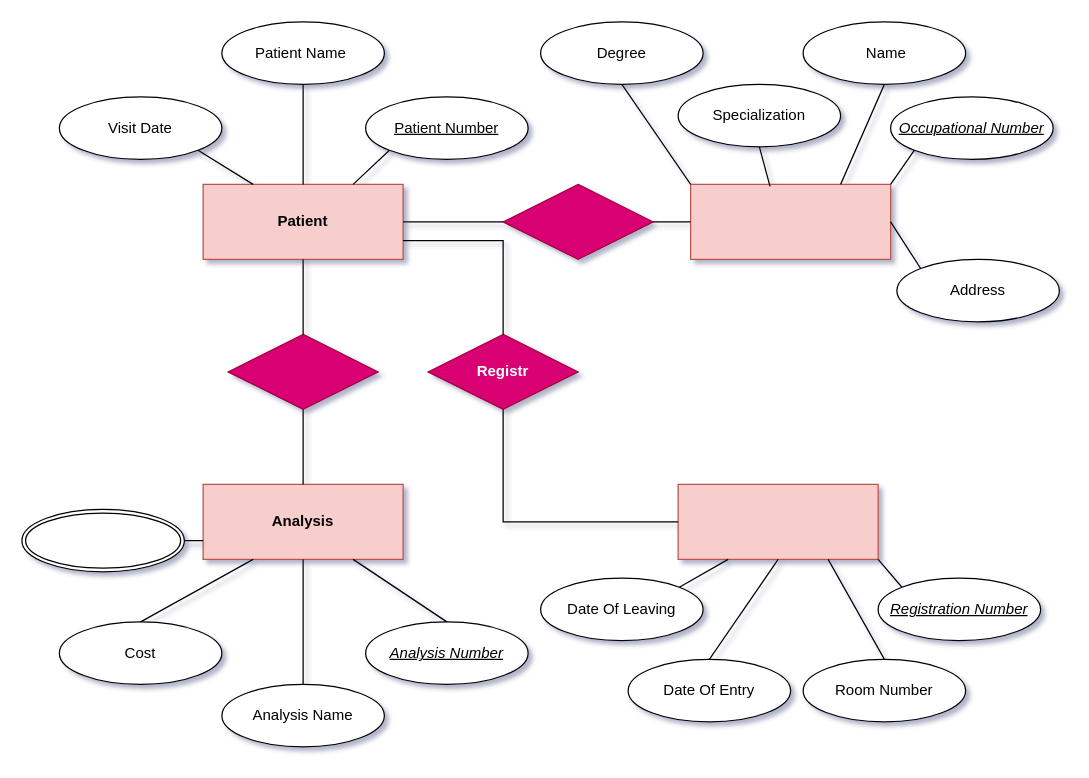
This 1089x778 diagram has some shape labels left out. Here are the shapes that lost their labels. From the top down, the centre of each, then its label:
At pixel 577 221: "Treat".
At pixel 790 221: "Doctor".
At pixel 302 371: "Analyzing".
At pixel 102 540: "Details".
At pixel 777 521: "Registration".
